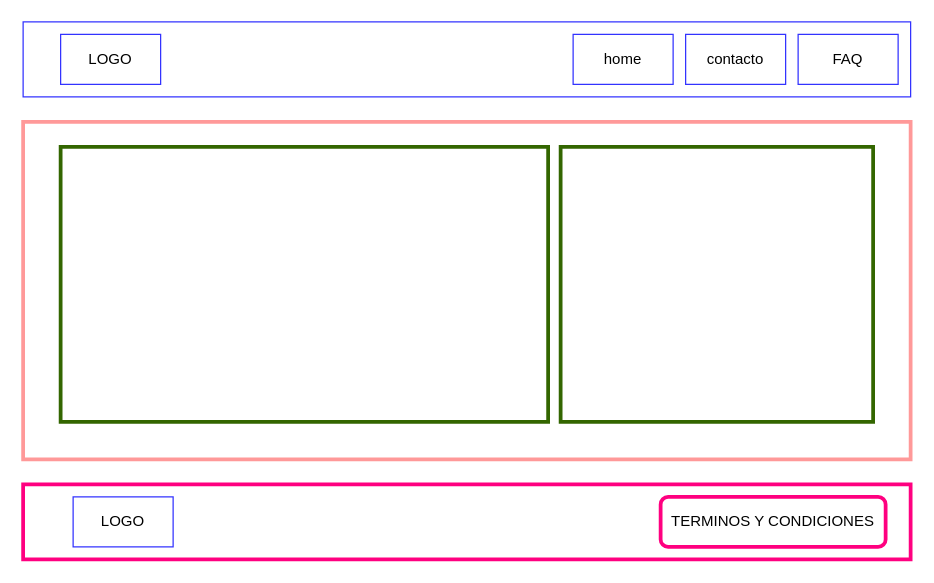
Some shapes in this 934 by 583 pixel diagram are drawn without their labels. The shapes that lost their labels are listed below. From the top down, each one's box as (x1, y1, x2, y2) in pixels, then its label:
(22, 21, 911, 97): NAV
(58, 144, 549, 423): ARTTICLE
(558, 144, 874, 423): ASIDE
(21, 482, 912, 561): FOOTER
